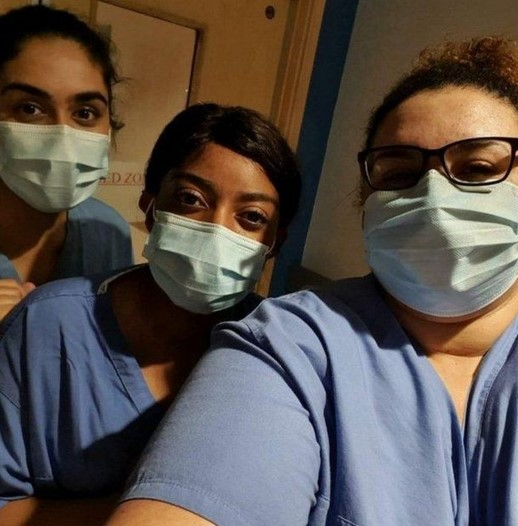face_with_mask: (355, 52, 516, 323), (138, 100, 295, 320), (2, 5, 118, 214)
